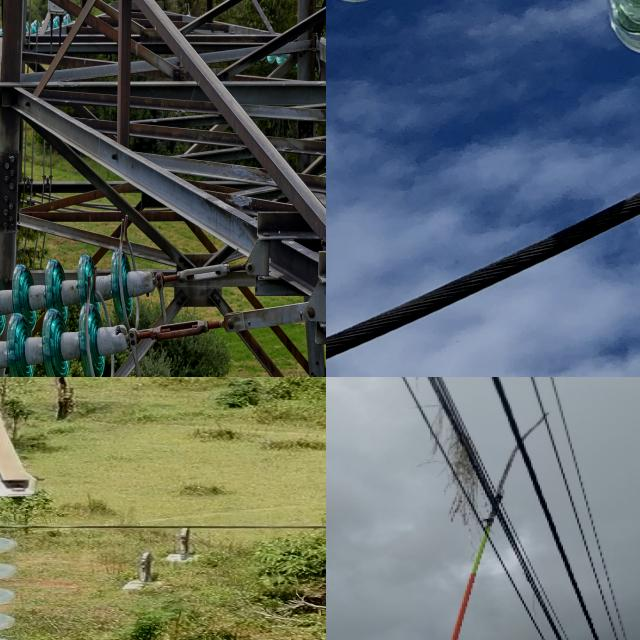杆塔: (0, 0, 326, 377)
植被遮挡: (395, 377, 489, 534)
正常电缆: (326, 161, 640, 374)
正常绝缘子: (0, 239, 198, 377), (0, 8, 76, 95)
